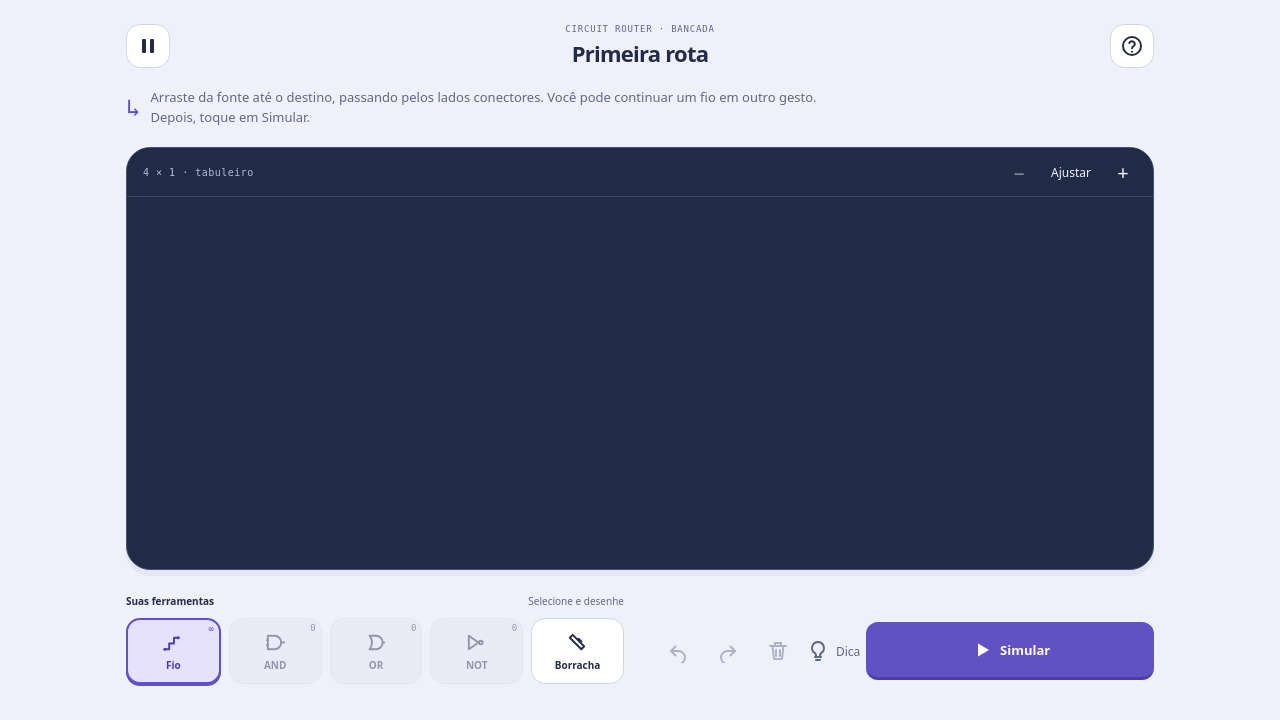
AppShell · navegação › pausa → voltar às fases retorna à lista (sem entrar no menu)
This screenshot has width=1280, height=720.
expect the element with test id "board-slot" is shown: met, box x1=127 y1=197 x2=1153 y2=568
Click the button named "Pausar": (148, 46) x1=126 y1=24 x2=170 y2=68
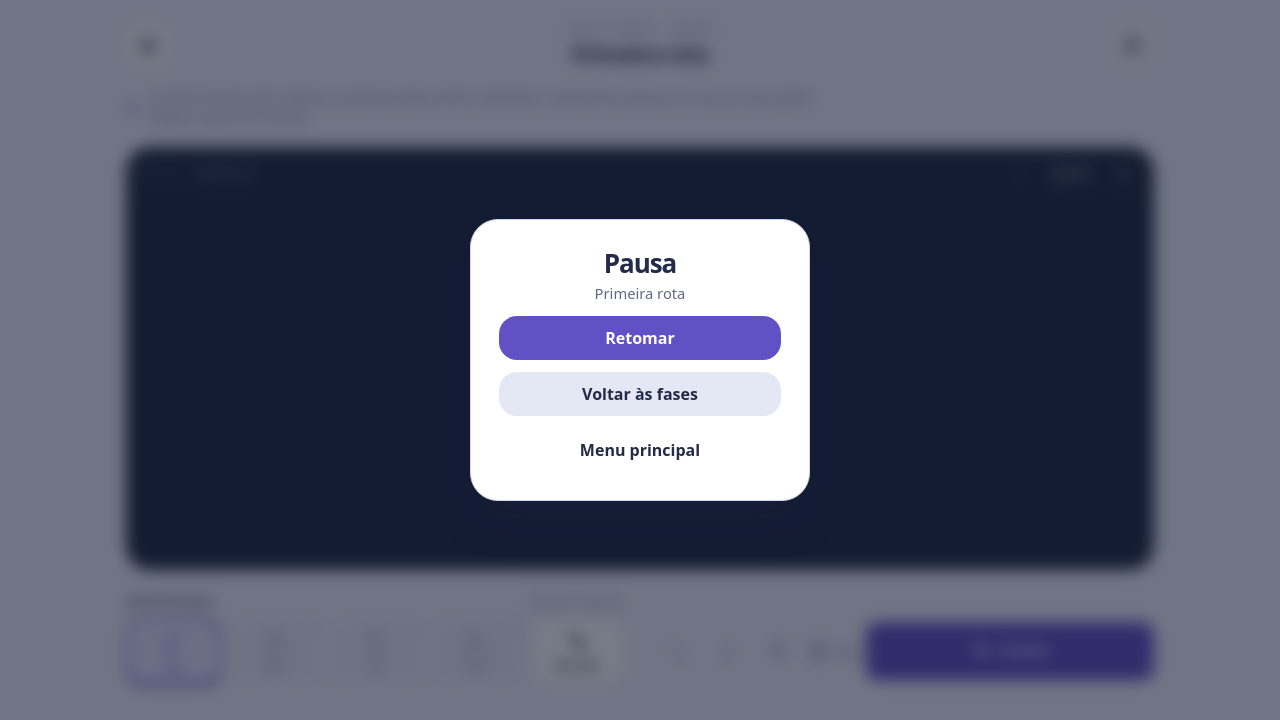
Click the button "Voltar às fases": (640, 394) x1=499 y1=372 x2=781 y2=416
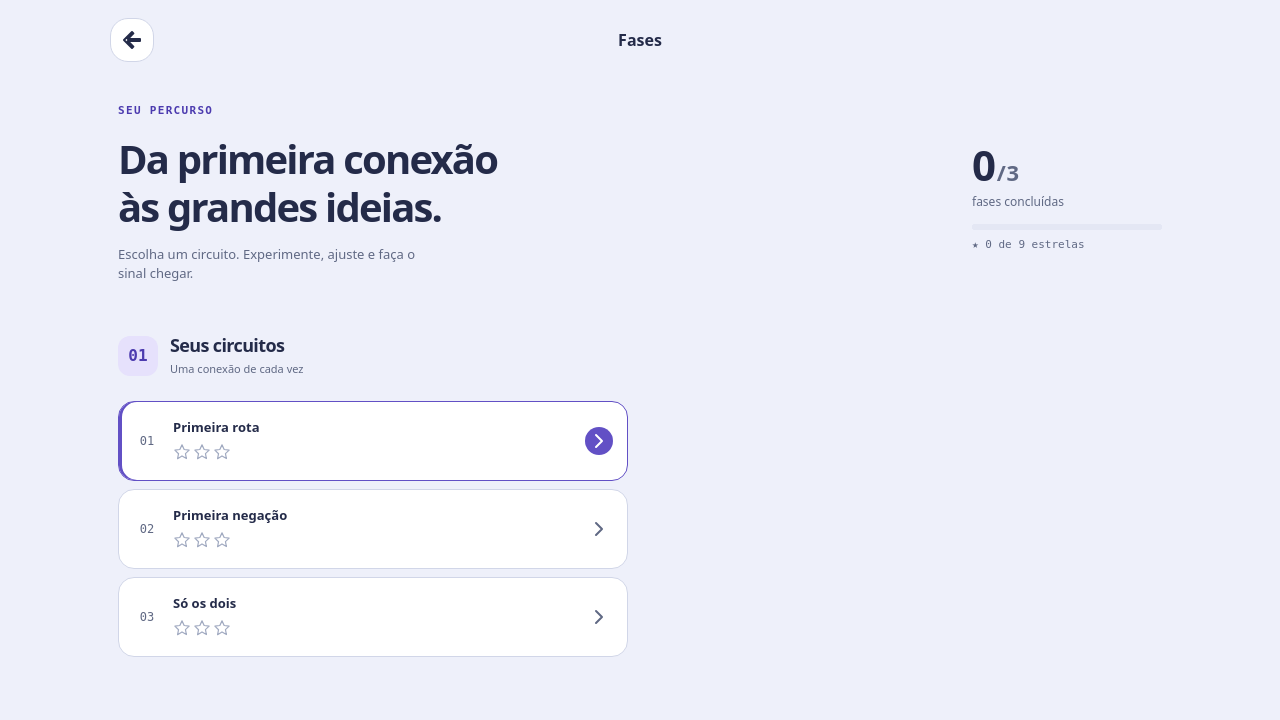
expect the heading "Fases" is shown: met, box x1=618 y1=29 x2=662 y2=51
expect the element with test id "board-slot" is gone: met
